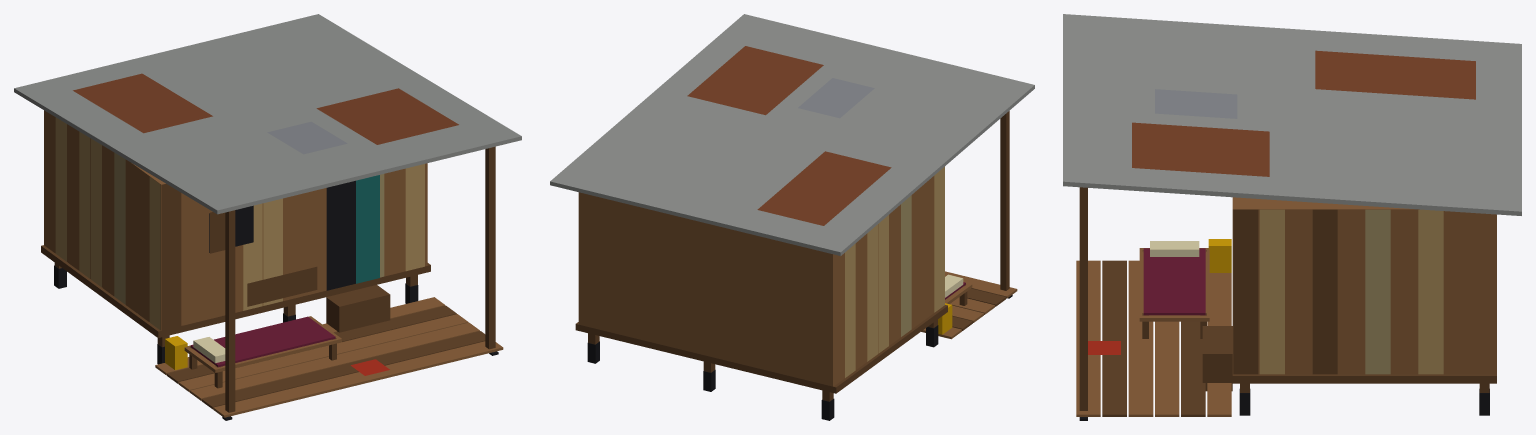
Rendered from bld_makoko-house_a.glb.
3 views of the same model, side by side, from view 1: azimuth 30°, elevation 25°; view 2: azimuth 150°, elevation 25°; view 3: azimuth 270°, elevation 25° (orthographic). The views are drawn at different scales.
Visible parts, largest first — view 1: body; view 2: body; view 3: body.
Boxes of the visible parts, left/top/right/bottom form: body: left=14, top=14, right=521, bottom=420; body: left=550, top=14, right=1034, bottom=420; body: left=1063, top=14, right=1521, bottom=420.
Size of the model in its own units: 4.8 by 3.31 by 5.55.
